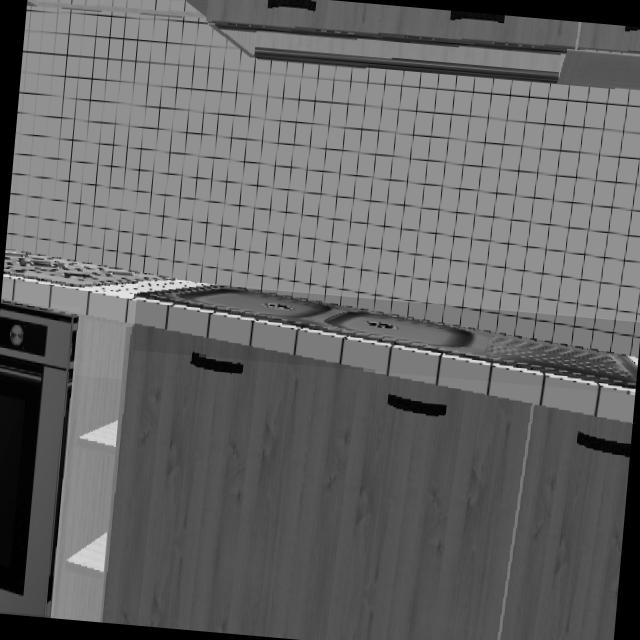cabinet: (100, 328, 632, 640)
countertop: (0, 273, 635, 423)
oven: (0, 301, 79, 617)
sink: (137, 284, 638, 393)
stove: (2, 249, 153, 288)
